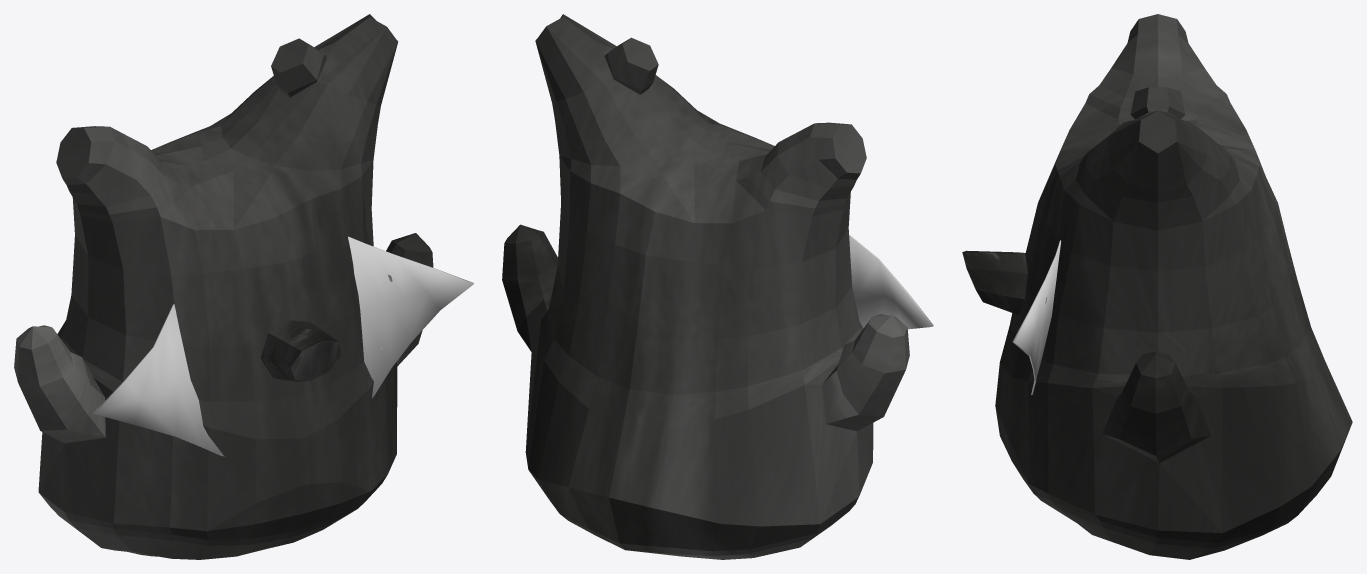
File: frame_0066.obj
3 renders of one model, left to right at view 1: azimuth 30°, elevation 25°; view 2: azimuth 150°, elevation 25°; view 3: azimuth 270°, elevation 25°, orthographic. The views are drawn at different scales.
Parts seen in each view (by area): view 1: korok, leaf, nose; view 2: korok, leaf; view 3: korok, nose, leaf.
Part boxes in pixels (box(x1,y1,x2,y2)): korok: box(14, 14, 433, 559); leaf: box(93, 236, 473, 456); nose: box(261, 320, 341, 381); korok: box(502, 14, 909, 559); leaf: box(849, 234, 933, 329); korok: box(995, 14, 1352, 559); nose: box(962, 250, 1027, 314); leaf: box(1012, 240, 1061, 394).
Size of the model in its own units: 1.53 by 1.72 by 1.27.
